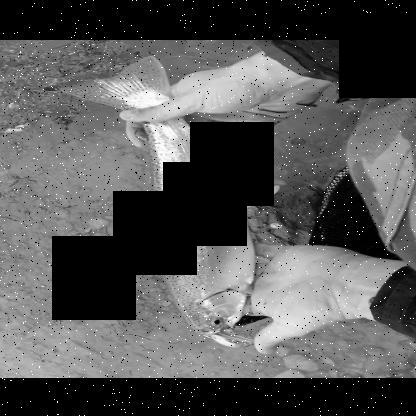fish: (61, 54, 278, 331)
